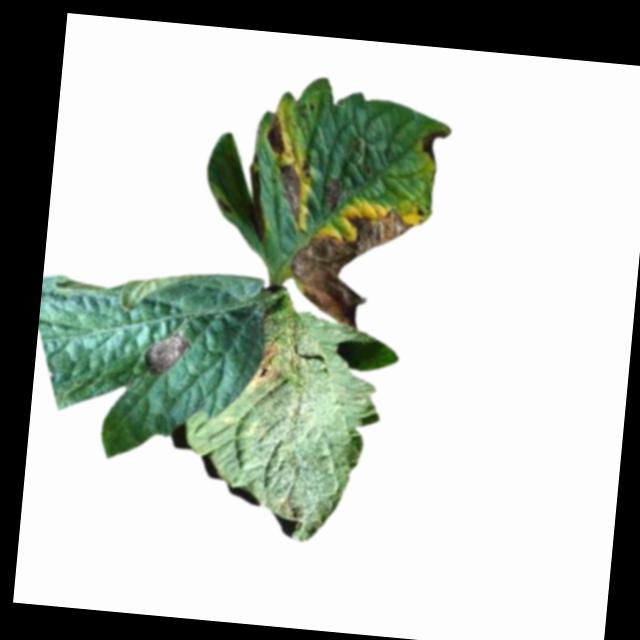Early_blight: (291, 197, 413, 333), (139, 328, 188, 378), (273, 157, 306, 223), (251, 336, 283, 383), (416, 124, 450, 165), (263, 113, 289, 158), (316, 174, 344, 211)
